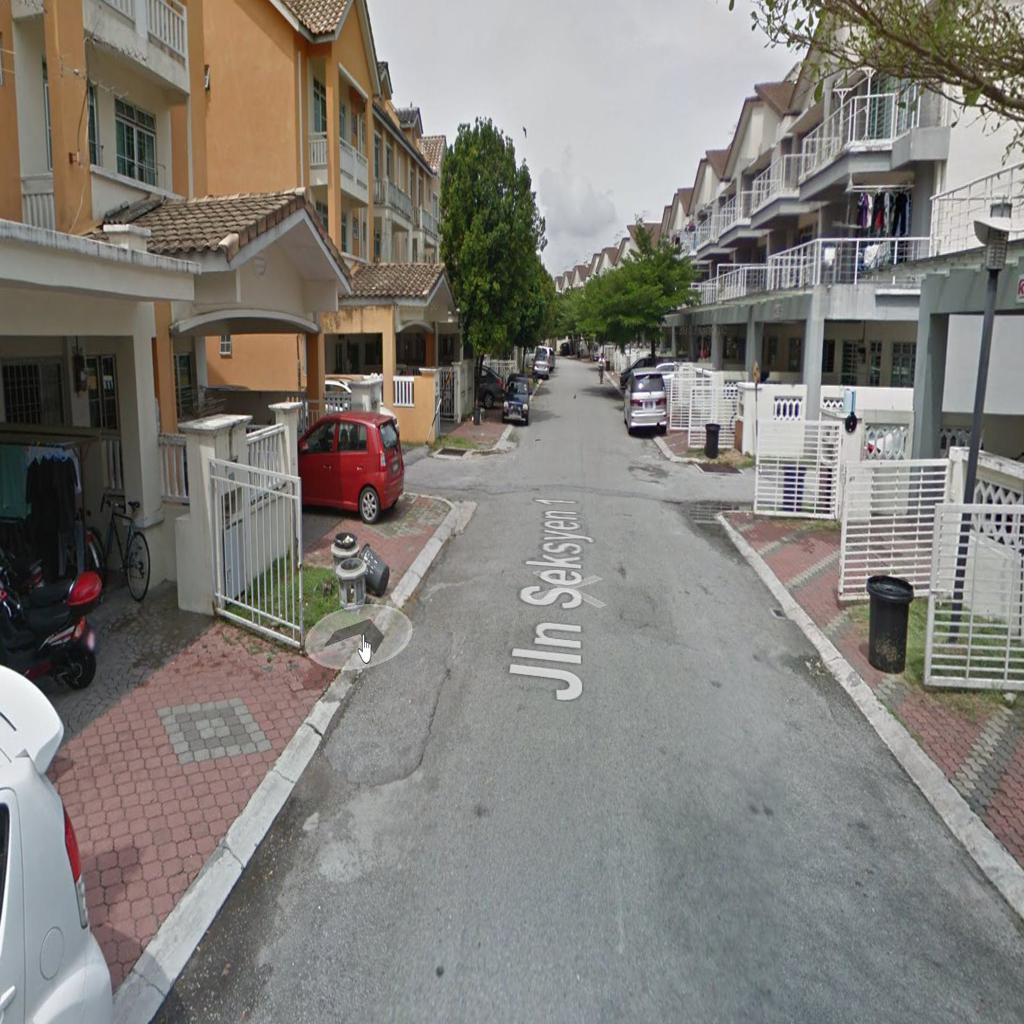Junction: (634, 426, 818, 551), (398, 423, 515, 518)
